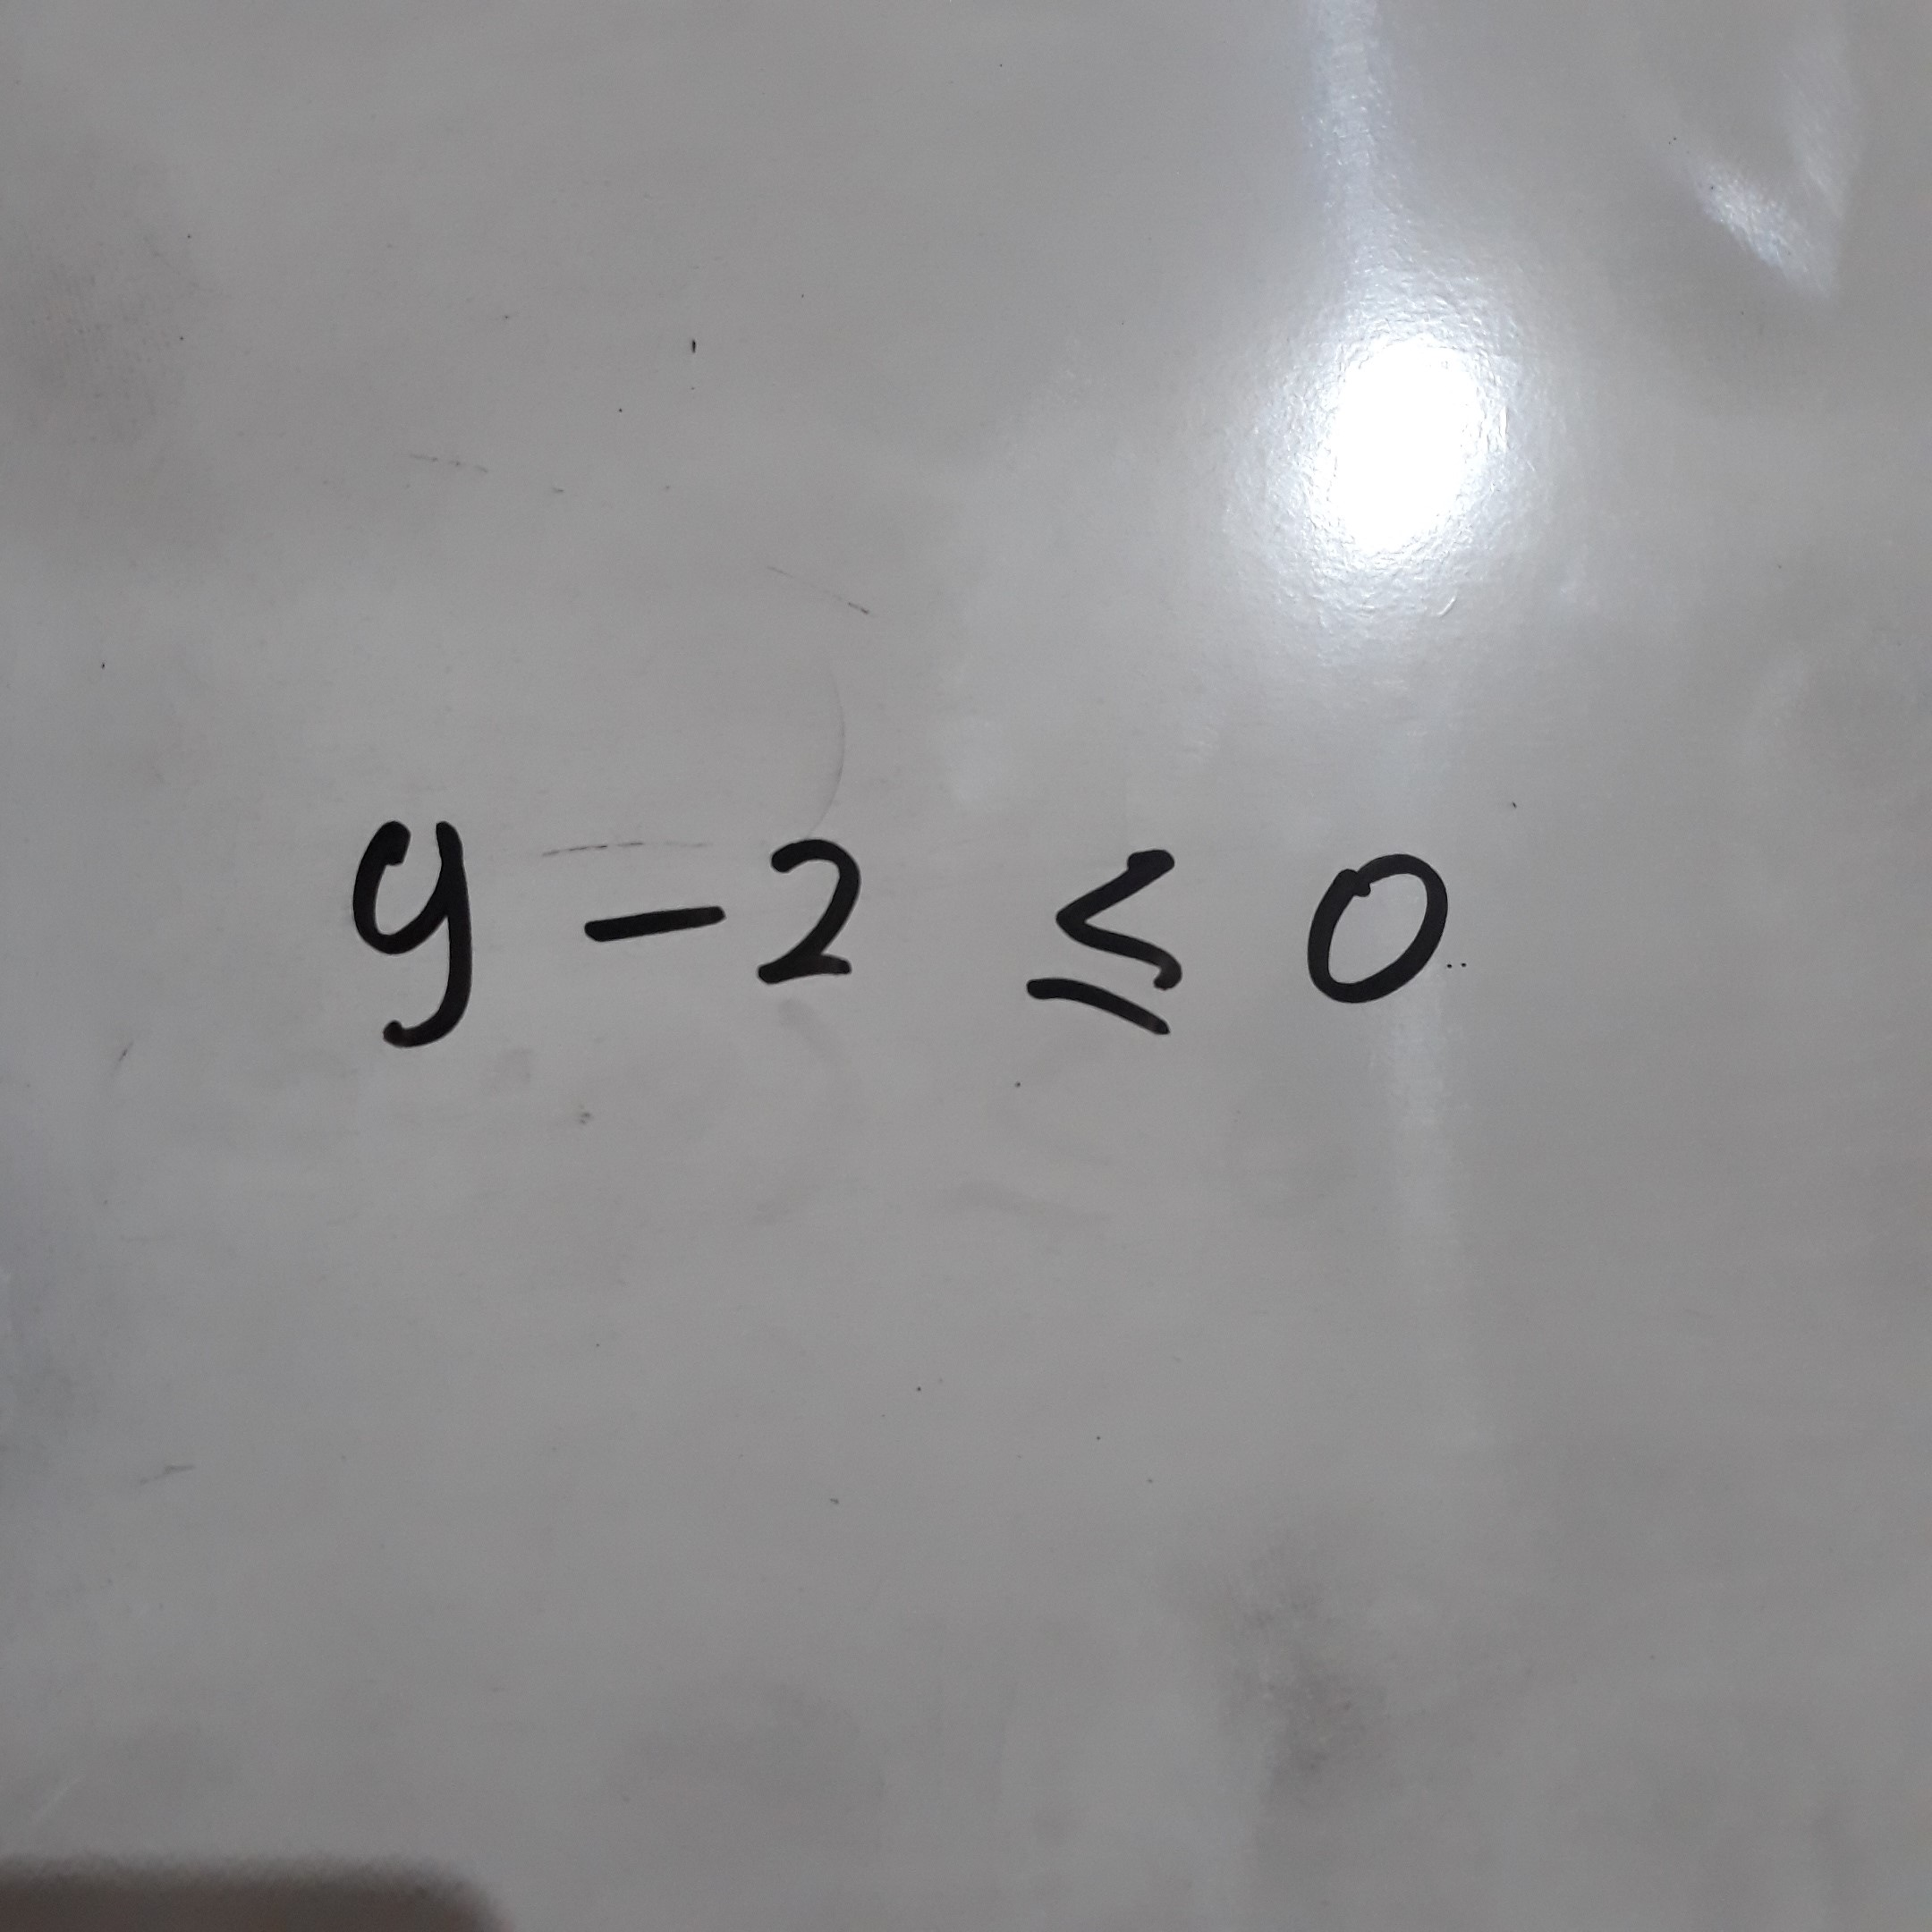lessthan-equal: (1004, 817, 1223, 1071)
min: (573, 860, 738, 968)
num0: (1277, 796, 1496, 1050)
num2: (742, 826, 878, 996)
num9: (313, 797, 514, 1071)
